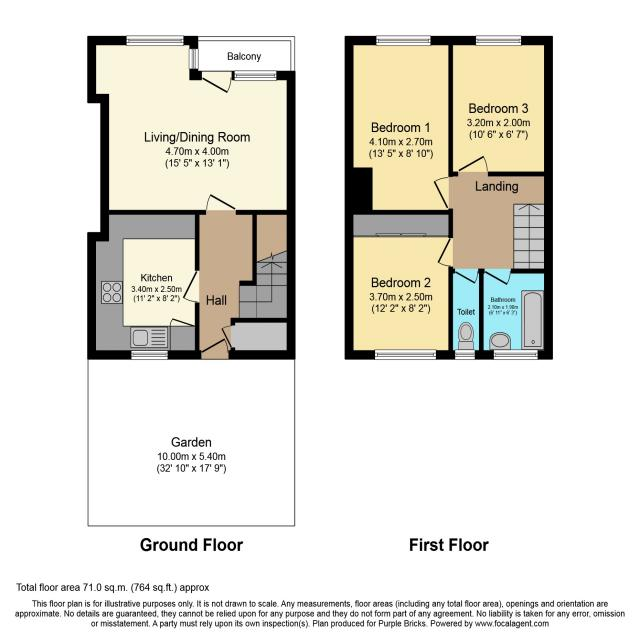DOOR: (432, 175, 454, 211), (201, 70, 232, 94), (457, 154, 489, 177), (205, 193, 237, 215), (200, 336, 229, 360), (181, 269, 200, 304), (436, 237, 454, 267), (483, 268, 512, 286), (454, 268, 479, 285)
ROOM: (87, 35, 296, 215), (344, 35, 453, 215), (87, 210, 200, 360), (344, 210, 453, 360), (448, 35, 553, 177)
WINDOW: (374, 349, 437, 361), (125, 35, 185, 47), (375, 35, 432, 46), (475, 35, 522, 47), (234, 70, 277, 82), (493, 349, 538, 360), (131, 350, 168, 360), (188, 48, 199, 70), (454, 349, 475, 360)
